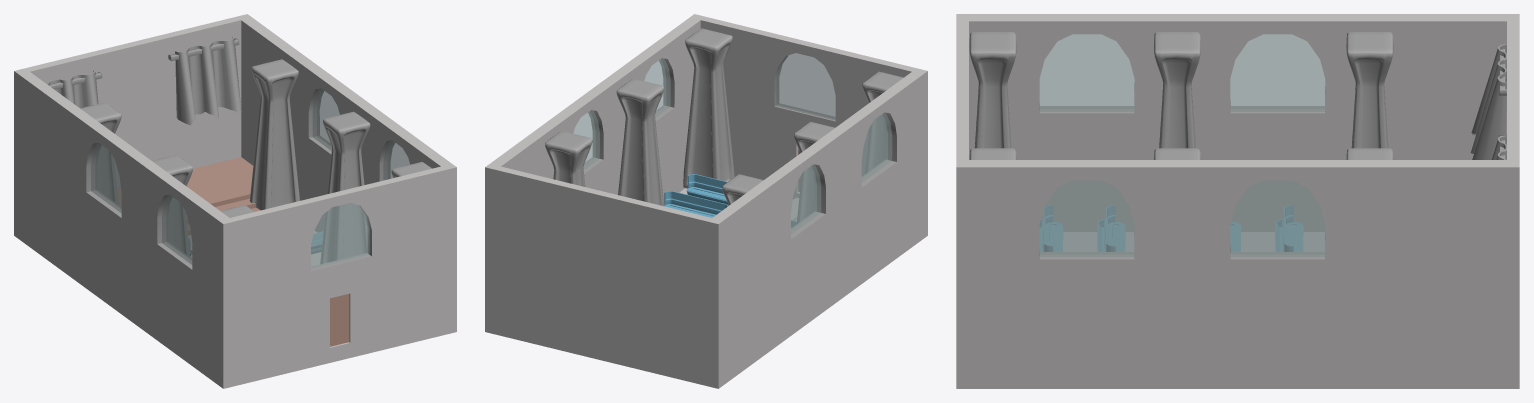
File: ChurchBase.fbx
The picture shows the model from 3 angles, left to right: view 1: azimuth 30°, elevation 25°; view 2: azimuth 150°, elevation 25°; view 3: azimuth 270°, elevation 25°; orthographic projection. The views are drawn at different scales.
Parts seen in each view (by area): view 1: pCube12, pCube17, pCube10, extrudedSurface1, windowLeft, WindowBack, pCube2, WindowRight, pCube11, curtain, pCube20; view 2: pCube12, pCube8, pCube10, WindowBack, windowLeft, pCube17, WindowRight, pCube9, pCube11, polySurface7, polySurface6; view 3: pCube12, windowLeft, WindowRight, pCube17, pCube9, pCube11, curtain, polySurface1, polySurface4, polySurface5, pCube8, pCube10.
Part boxes in pixels (left/top/right/bottom): pCube12: left=14, top=14, right=456, bottom=388; pCube17: left=80, top=59, right=299, bottom=210; pCube10: left=320, top=111, right=370, bottom=263; extrudedSurface1: left=175, top=36, right=241, bottom=125; windowLeft: left=91, top=143, right=192, bottom=264; WindowBack: left=311, top=203, right=369, bottom=268; pCube2: left=117, top=157, right=260, bottom=234; WindowRight: left=313, top=88, right=409, bottom=179; pCube11: left=152, top=155, right=192, bottom=256; curtain: left=47, top=70, right=98, bottom=108; pCube20: left=330, top=294, right=349, bottom=346; pCube12: left=485, top=14, right=927, bottom=388; pCube8: left=683, top=28, right=734, bottom=188; pCube10: left=616, top=78, right=664, bottom=206; WindowBack: left=775, top=53, right=835, bottom=120; windowLeft: left=790, top=112, right=891, bottom=234; pCube17: left=545, top=131, right=763, bottom=205; WindowRight: left=573, top=58, right=670, bottom=169; pCube9: left=862, top=71, right=903, bottom=173; pCube11: left=794, top=122, right=834, bottom=223; polySurface7: left=664, top=191, right=728, bottom=217; polySurface6: left=686, top=174, right=728, bottom=205; pCube12: left=956, top=14, right=1519, bottom=388; windowLeft: left=1039, top=34, right=1325, bottom=111; WindowRight: left=1039, top=180, right=1325, bottom=256; pCube17: left=1346, top=32, right=1393, bottom=159; pCube9: left=969, top=32, right=1016, bottom=148; pCube11: left=1154, top=32, right=1200, bottom=148; curtain: left=1470, top=44, right=1506, bottom=159; polySurface1: left=1275, top=205, right=1303, bottom=251; polySurface4: left=1097, top=205, right=1125, bottom=251; polySurface5: left=1040, top=205, right=1062, bottom=251; pCube8: left=969, top=148, right=1016, bottom=159; pCube10: left=1154, top=148, right=1200, bottom=159.
Size of the model in its own units: 98.49 by 66.41 by 153.
